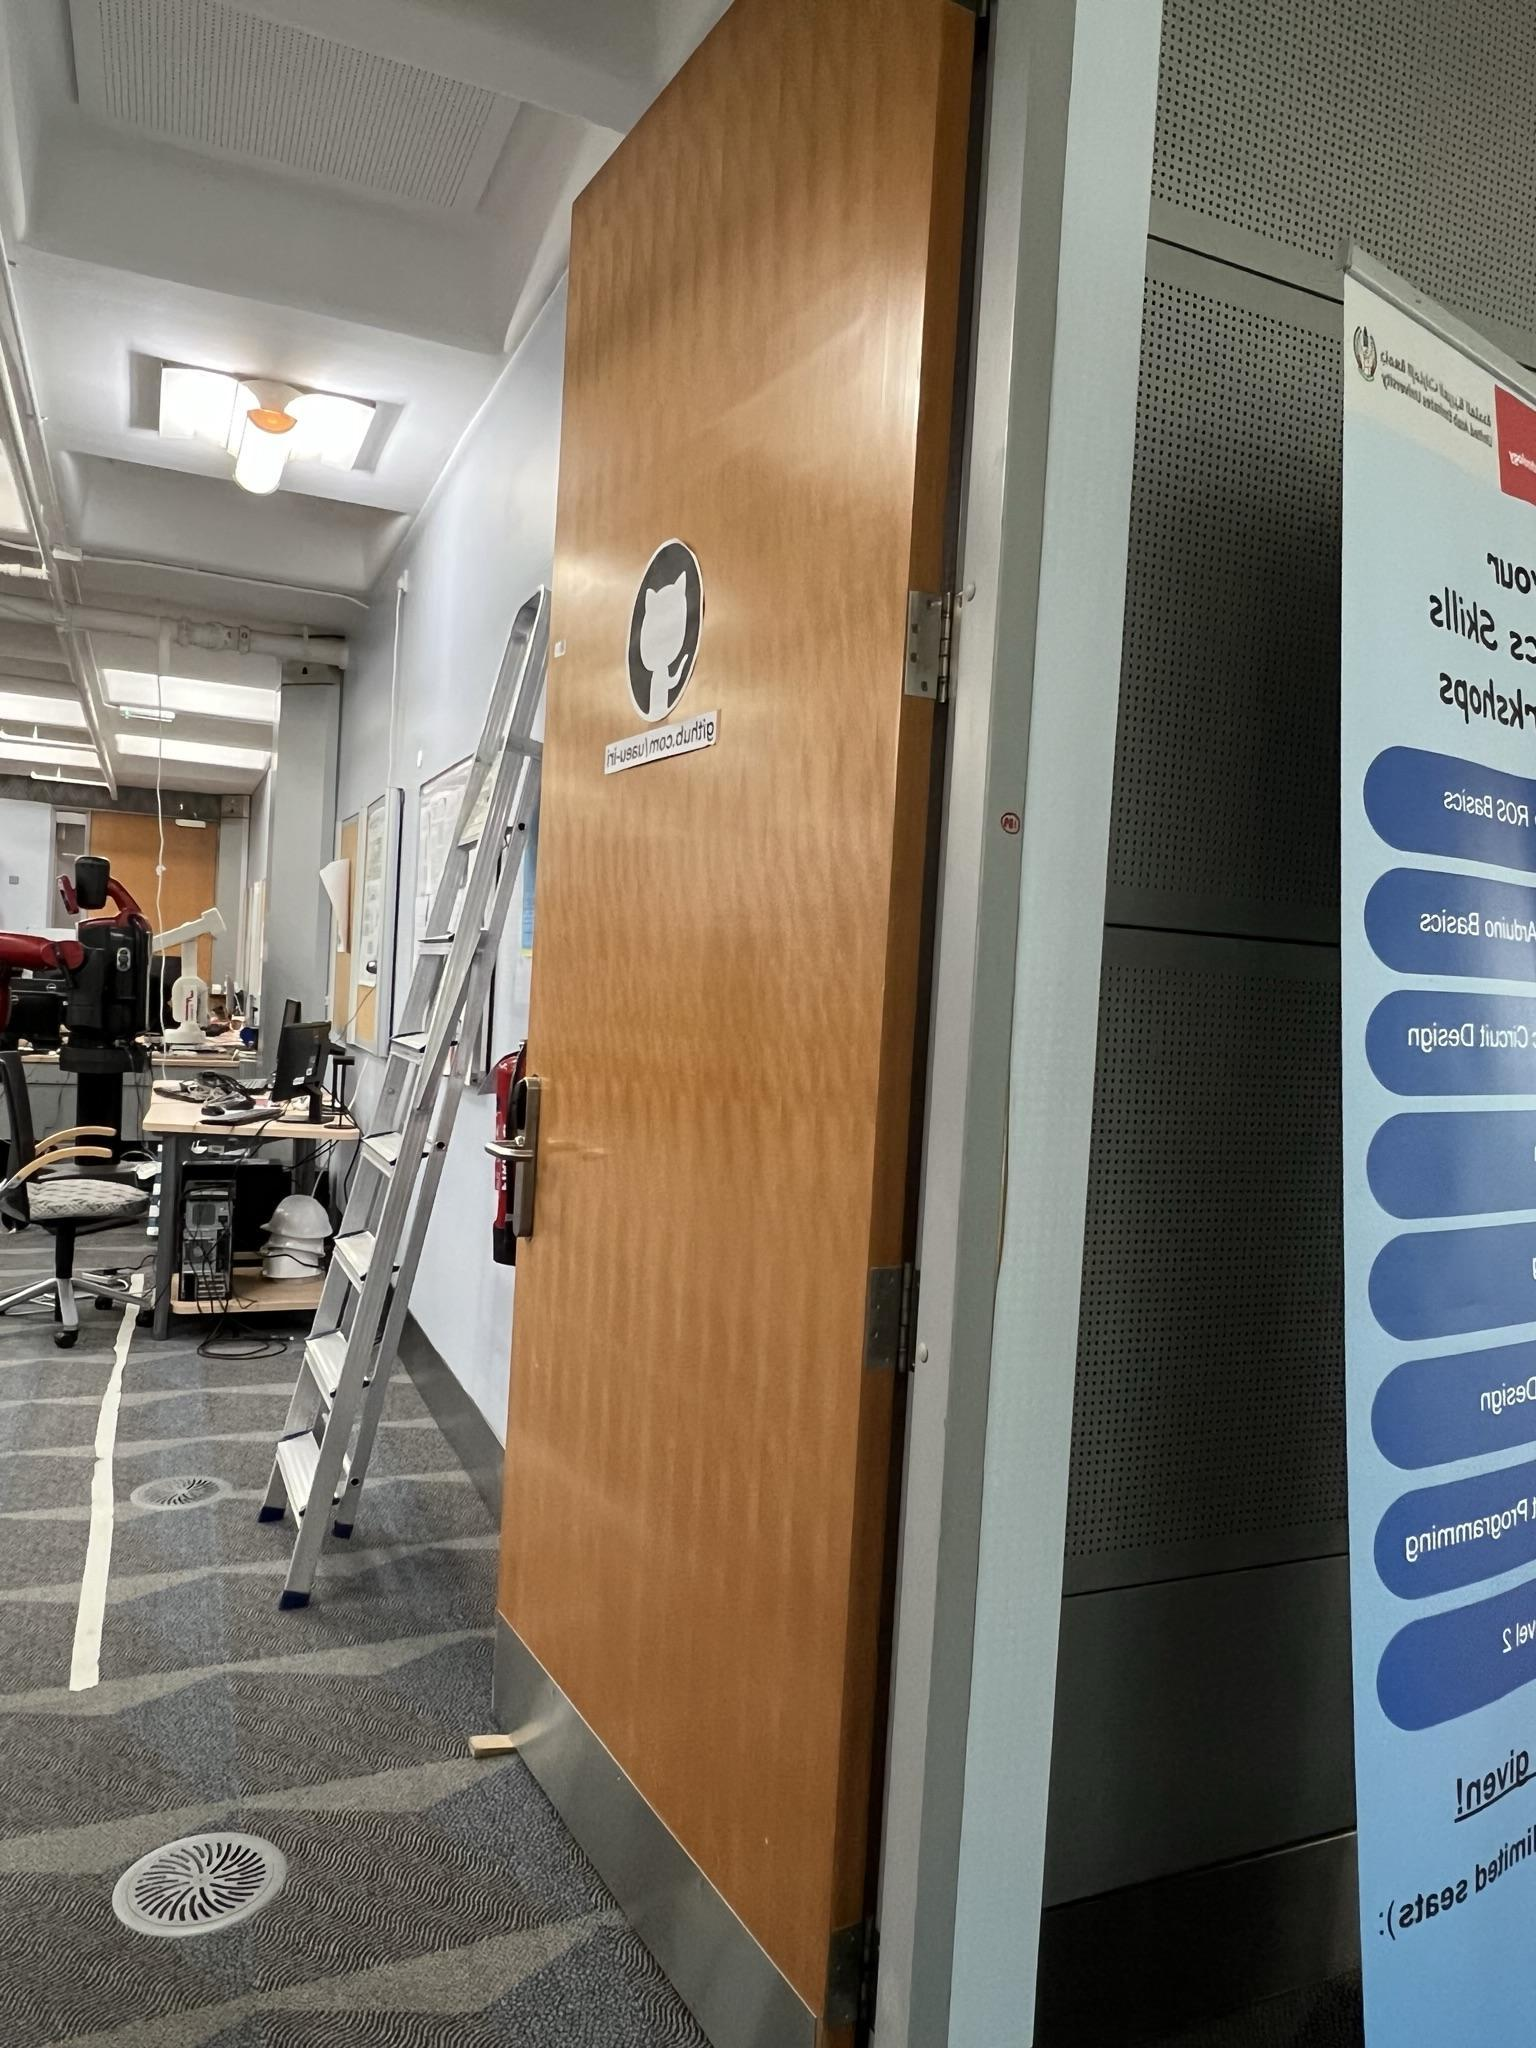door: (474, 0, 949, 1983)
handle: (482, 1068, 545, 1243)
